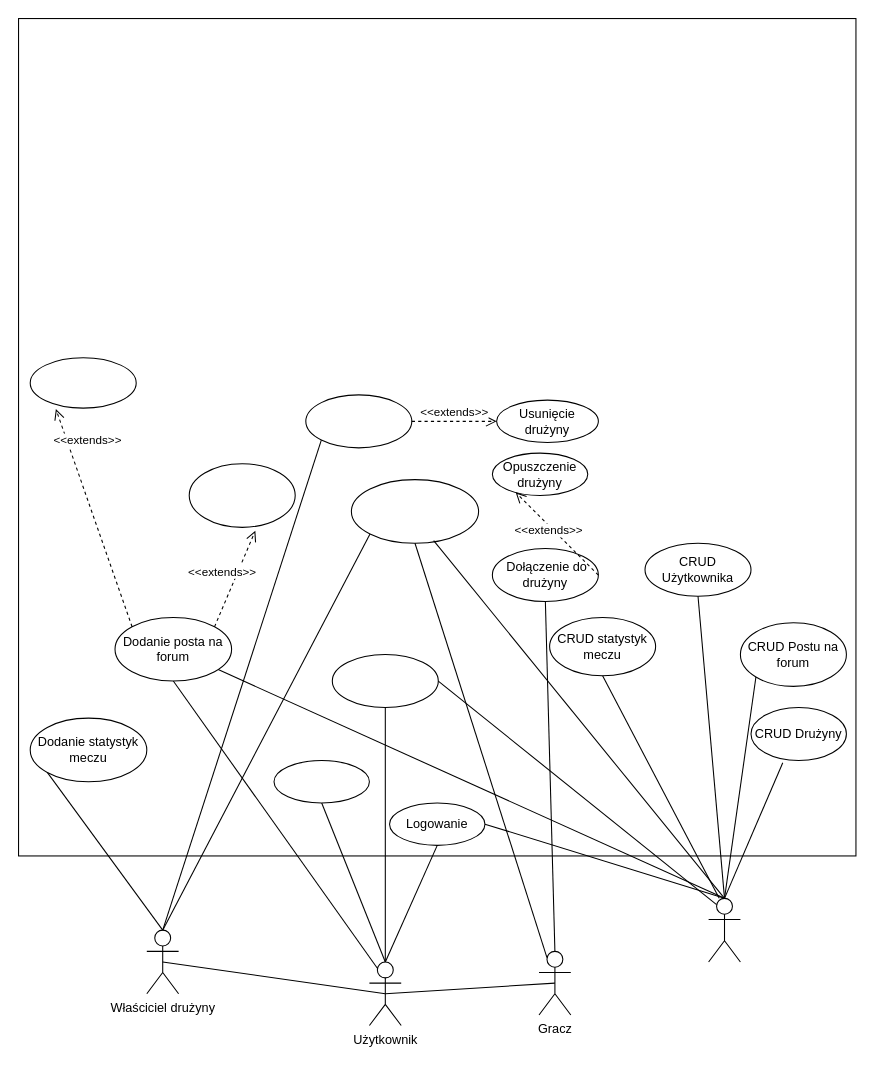
Image size: 874x1066. Some labels were removed from this diagram. The box of each missing label's shape, as (x1, y1, x2, y2) in pixels:
Administrator: (708, 897, 740, 962)
Edycja posta na forum: (29, 357, 136, 408)
Przeglądanie szczegółów drużyny: (350, 479, 479, 543)
Przeglądanie tabeli ligowej: (331, 653, 438, 708)
Rejestracja: (273, 759, 369, 803)
Usunięcie posta na forum: (188, 463, 295, 527)
Założenie drużyny: (305, 394, 412, 448)
